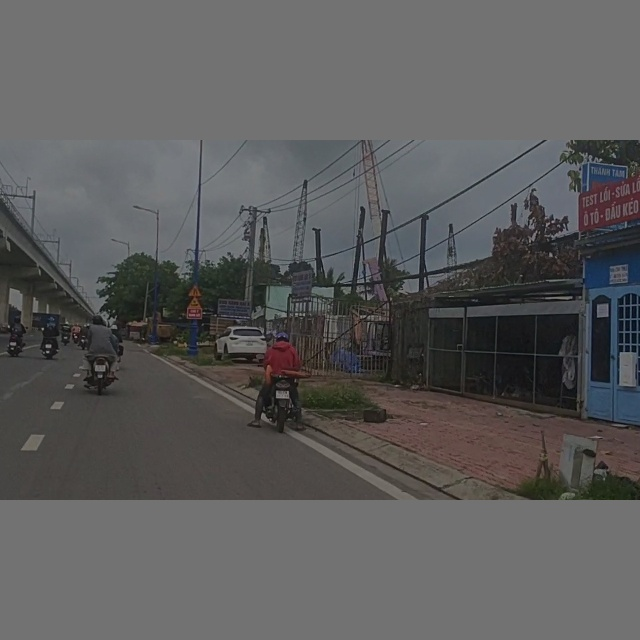W.203c: (189, 283, 203, 297)
W.245a: (187, 296, 203, 308)
